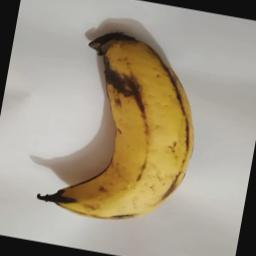Banana Unripe: (32, 22, 214, 236)
